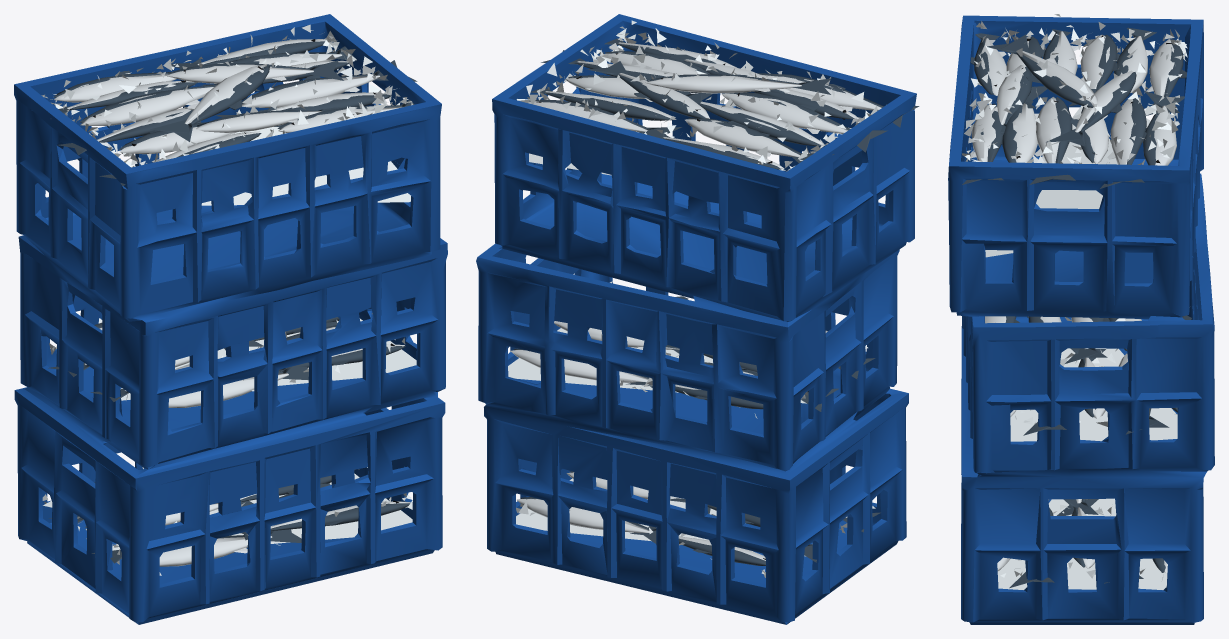
The model's file is f_nelayan_peti_tumpuk.glb.
3 views of the same model, side by side, from view 1: azimuth 30°, elevation 25°; view 2: azimuth 150°, elevation 25°; view 3: azimuth 270°, elevation 25° (orthographic).
Parts seen in each view (by area): view 1: crate_blue_plastic, fish_silver, fish_back, crushed_ice; view 2: crate_blue_plastic, fish_silver, fish_back, crushed_ice; view 3: crate_blue_plastic, fish_silver, crushed_ice, fish_back.
Boxes of the visible parts, <box> form: crate_blue_plastic: <box>14,14,447,624</box>; fish_silver: <box>54,39,410,566</box>; fish_back: <box>48,41,417,563</box>; crushed_ice: <box>41,24,416,575</box>; crate_blue_plastic: <box>476,14,916,624</box>; fish_silver: <box>510,42,881,560</box>; fish_back: <box>514,38,919,565</box>; crushed_ice: <box>508,20,886,577</box>; crate_blue_plastic: <box>948,15,1214,624</box>; fish_silver: <box>970,31,1179,573</box>; crushed_ice: <box>962,14,1187,589</box>; fish_back: <box>962,27,1191,588</box>.
Bounding box in the file's own units: 0.6854 × 0.9108 × 0.4592.
